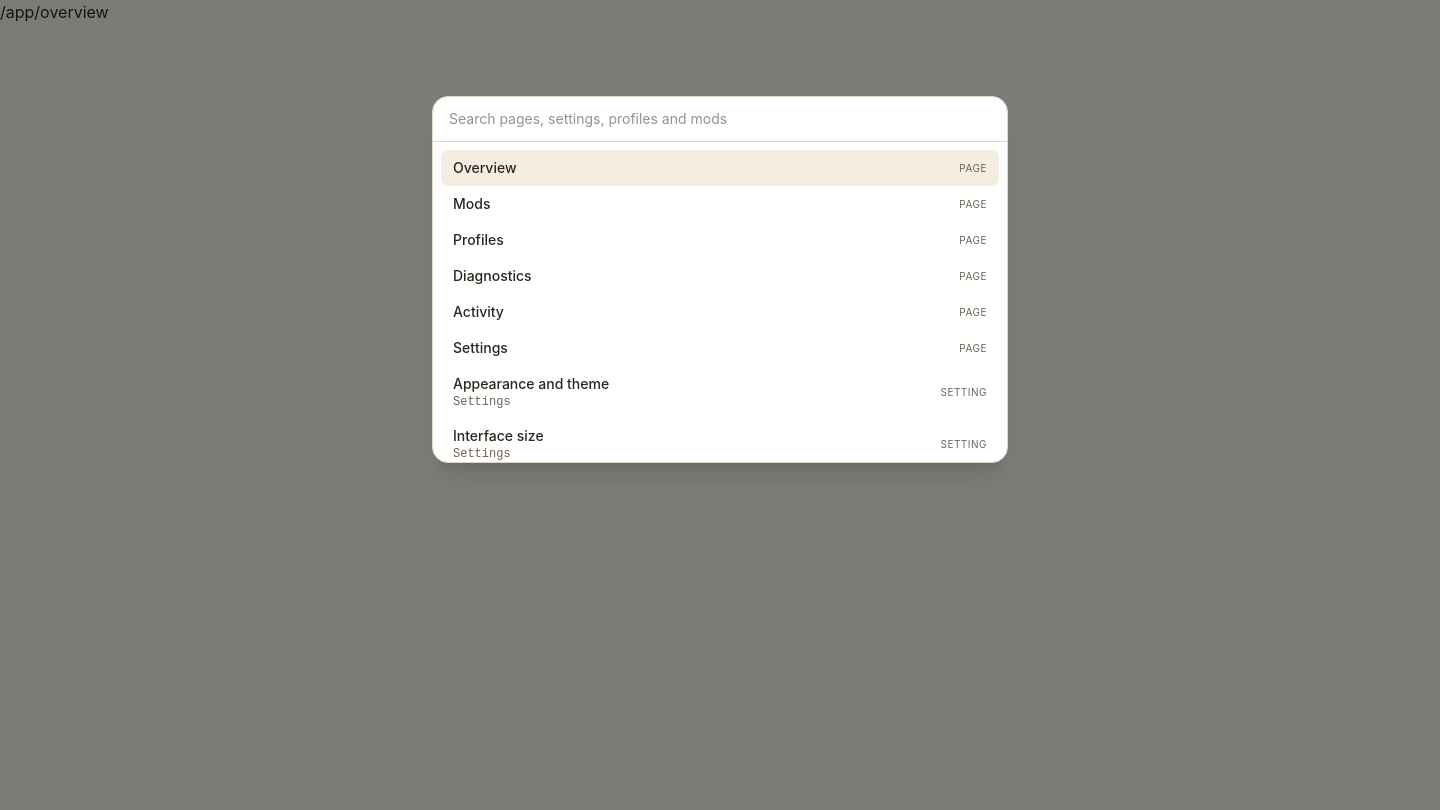
Test: global search dialog › says so when nothing matches
This screenshot has width=1440, height=810.
Type "qqqqqq" into the dropdown labelled "Search". click: (720,120)
box: x1=433 y1=97 x2=1007 y2=142
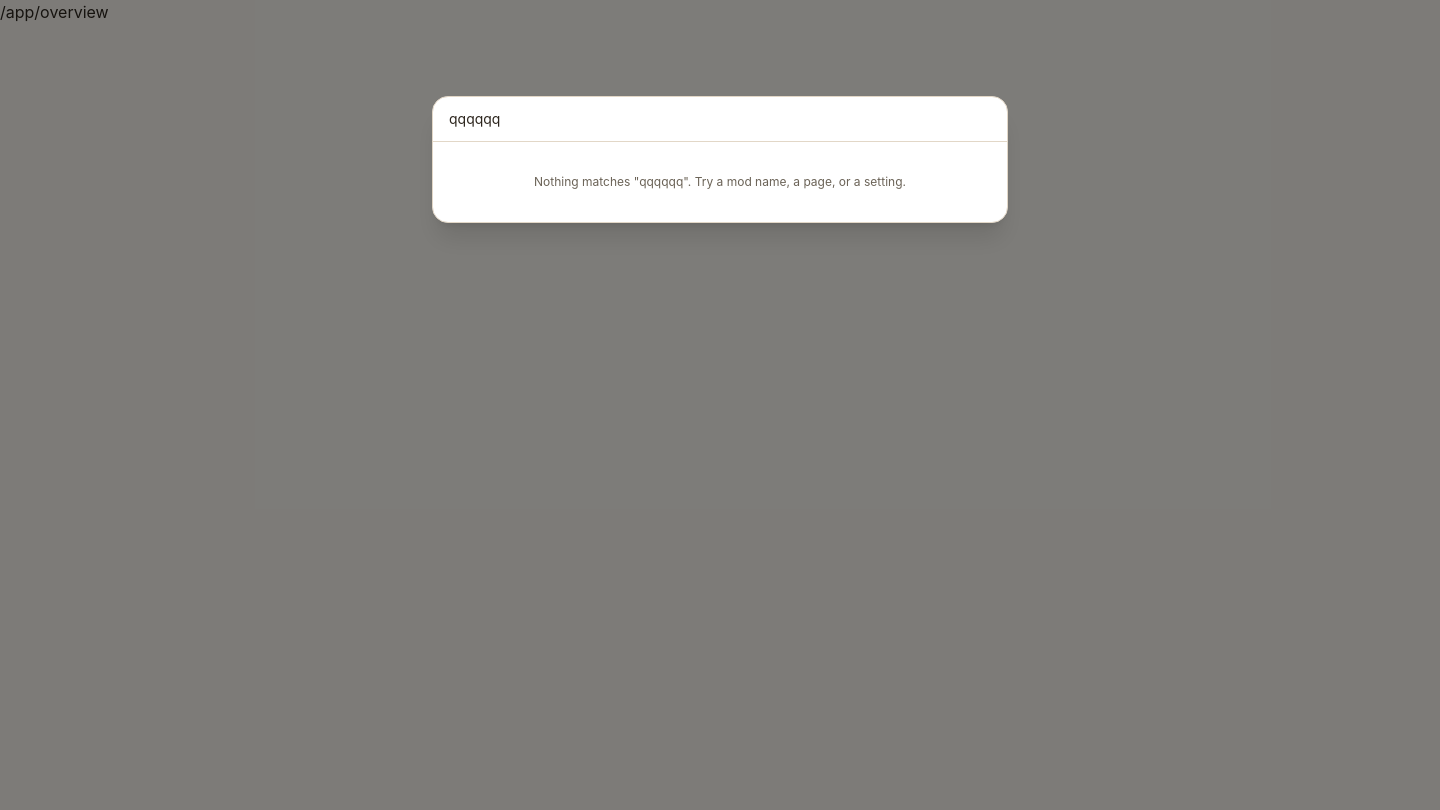
Expected: the text "Nothing matches \"qqqqqq\". Try a mod name, a page, or a setting." is shown, x1=534 y1=174 x2=906 y2=189
